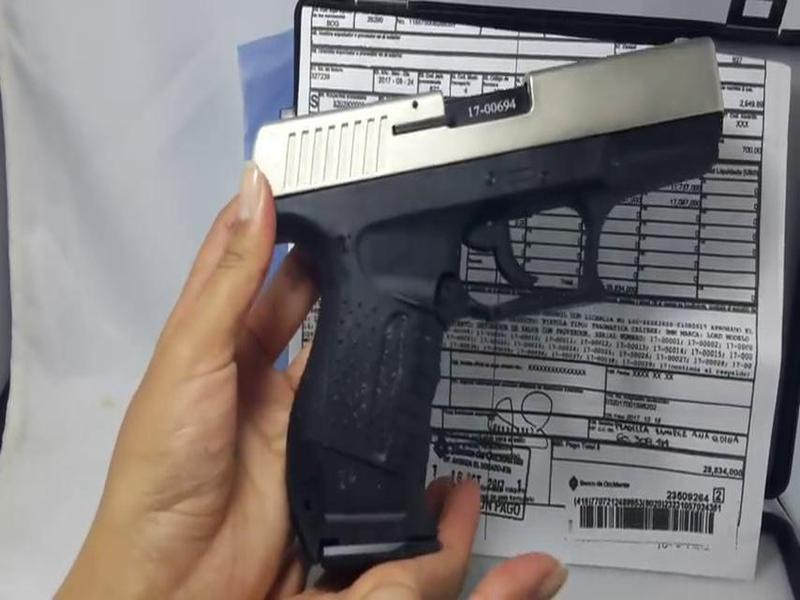Pistola: (244, 34, 737, 564)
